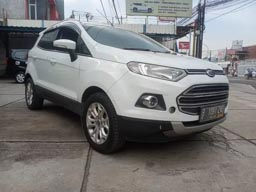plat: (201, 105, 225, 121)
